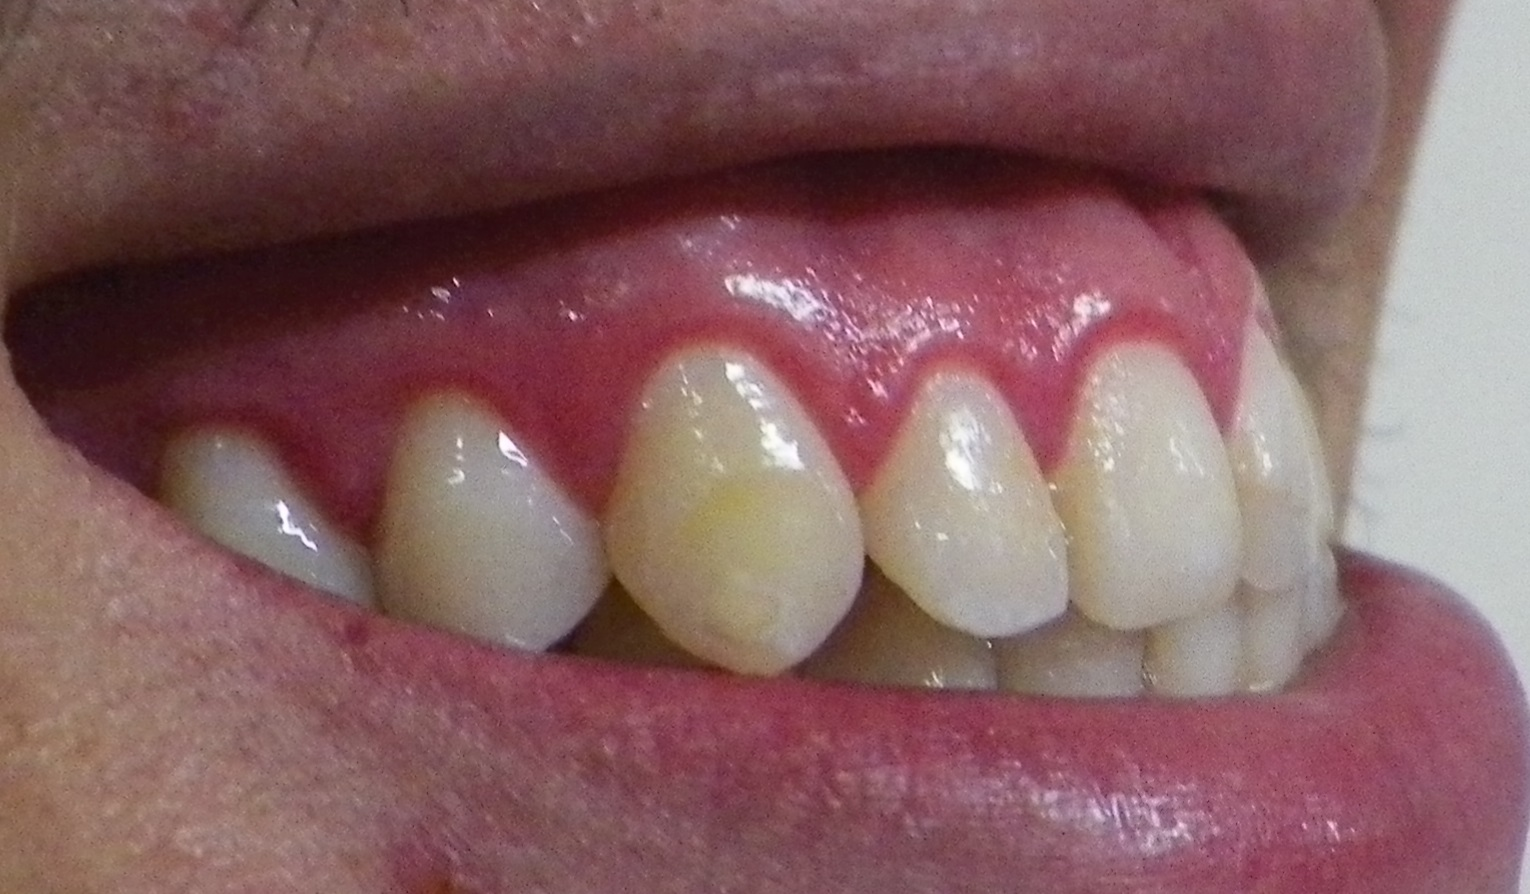boca: (161, 328, 1356, 695)
